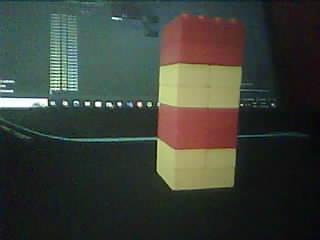lego: (156, 11, 245, 191)
